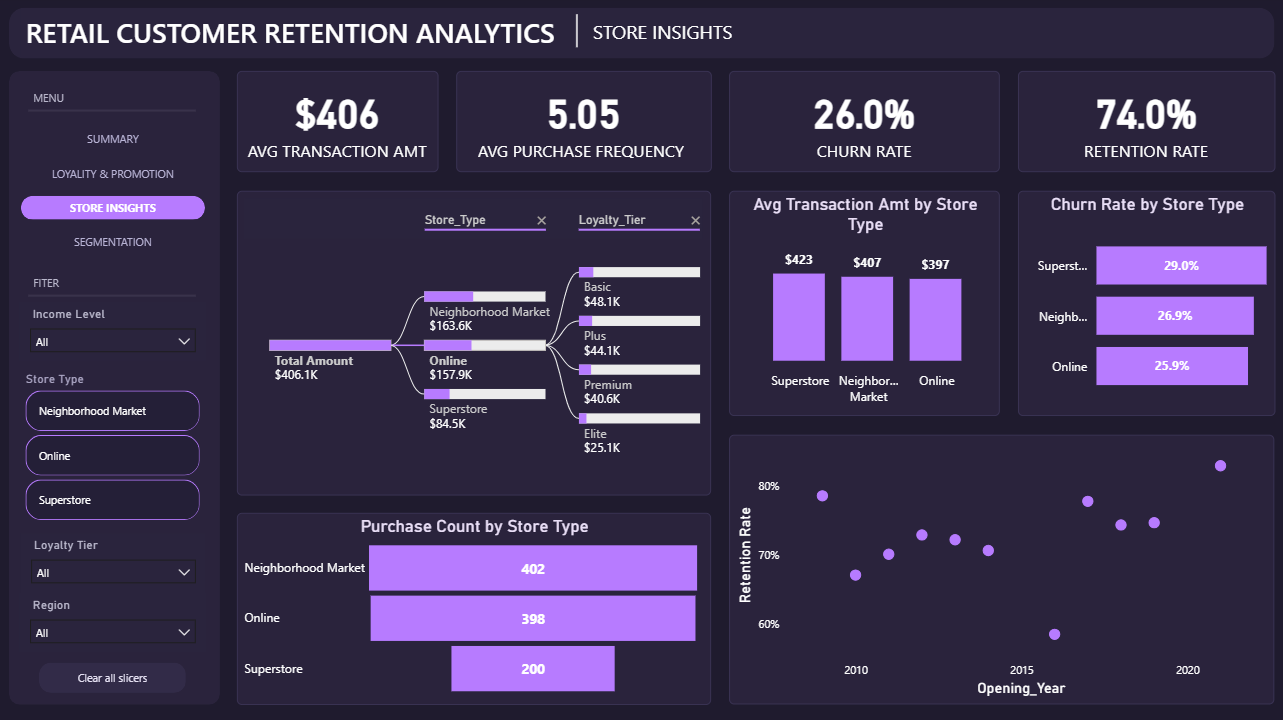

The page's visual inventory and layout, read from the dashboard file:
{"tool":"powerbi","page":{"name":"STORE INSIGHTS ","canvas":[1280,720],"ordinal":2},"visuals":[{"type":"card","title":"CHURN RATE","fields":{"Values":["All_Measures.Churn Rate"]},"box":[726.1,73.8,267.7,100.1],"z":0},{"type":"card","fields":{"Values":["Avg(Customer_Demographics.Purchase Count)"]},"box":[456.3,73.8,251.9,100.1],"z":1000},{"type":"card","fields":{"Values":["Avg(Transactions - Store (Merged).Amount)"]},"box":[240.3,73.8,199.2,100.1],"z":2000},{"type":"card","fields":{"Values":["All_Measures (DAX).Customer Retention Rate (%)"]},"box":[1010.6,73.8,254,100.1],"z":3000},{"type":"shape","box":[14.9,73.7,208.2,625.8],"z":4000},{"type":"advancedSlicerVisual","fields":{"Values":["Store_Locations.Store_Type"]},"box":[26.7,370.5,182.6,152.7],"z":5000},{"type":"slicer","fields":{"Values":["Customer_Demographics.Region"]},"box":[25.6,589.5,183.7,57.7],"z":6000},{"type":"slicer","fields":{"Values":["Loyalty_Program.Loyalty_Tier"]},"box":[26.7,530.7,182.6,58.7],"z":7000},{"type":"slicer","fields":{"Values":["Customer_Demographics.Income_Level"]},"box":[25.6,302.2,183.7,57.7],"z":8000},{"type":"actionButton","box":[44.8,657.8,145.2,29.9],"z":9000},{"type":"pageNavigator","box":[26.7,129.2,182.6,126],"z":10000},{"type":"shape","box":[34.2,289.4,165.5,12.8],"z":11000},{"type":"shape","box":[34.2,106.8,165.5,12.8],"z":12000},{"type":"textbox","box":[34.2,85.4,50.2,27.8],"z":13000},{"type":"textbox","box":[34.2,268,38.4,27.8],"z":14000},{"type":"shape","box":[14.9,11.7,1249.4,50.2],"z":15000},{"type":"shape","box":[569.1,18.2,12.2,32.8],"z":16000},{"type":"textbox","box":[26.8,12.2,542.3,46.2],"z":17000},{"type":"textbox","box":[586.2,17.1,153.8,37.4],"z":18000},{"type":"columnChart","title":"Avg Transaction Amt by Store Type","fields":{"Category":["Store_Locations.Store_Type"],"Y":["Avg(Transactions - Store (Merged).Amount)"]},"box":[726.1,191.8,267.7,222.4],"z":19000},{"type":"scatterChart","fields":{"X":["Store_Locations.Opening_Year"],"Y":["All_Measures (DAX).Customer Retention Rate (%)"]},"box":[726.1,433.1,538.5,266.6],"z":20000},{"type":"barChart","title":"Churn Rate by Store Type","fields":{"Category":["Store_Locations.Store_Type"],"Y":["All_Measures (DAX).Customer Churn Rate (%)"]},"box":[1010.6,191.8,254,222.4],"z":21000},{"type":"funnel","title":"Purchase Count by Store Type","fields":{"Category":["Store_Locations.Store_Type"],"Y":["CountNonNull(Transactions - Store (Merged).Transaction_ID)"]},"box":[240.3,510.1,467.9,189.7],"z":22000},{"type":"decompositionTreeVisual","title":"Total Spend by Loyality Tier by Store type","fields":{"ExplainBy":["Store_Locations.Store_Type","Loyalty_Program.Loyalty_Tier"],"Analyze":["Sum(Transactions - Store (Merged).Amount)"]},"box":[240.3,191.8,467.9,301.4],"z":23000}]}

Visuals, with their boxes in screenshot pixels (x1, y1, x2, y2), scaled from the page's 1280x720 canvas onto the 1283x720 screenshot:
"CHURN RATE" card: 728:74:996:174
card - Avg(Customer_Demographics.Purchase Count): 457:74:710:174
card - Avg(Transactions - Store (Merged).Amount): 241:74:441:174
card - All_Measures (DAX).Customer Retention Rate (%): 1013:74:1268:174
shape: 15:74:224:700
advancedSlicerVisual - Store_Locations.Store_Type: 27:370:210:523
slicer - Customer_Demographics.Region: 26:590:210:647
slicer - Loyalty_Program.Loyalty_Tier: 27:531:210:589
slicer - Customer_Demographics.Income_Level: 26:302:210:360
actionButton: 45:658:190:688
pageNavigator: 27:129:210:255
shape: 34:289:200:302
shape: 34:107:200:120
textbox: 34:85:85:113
textbox: 34:268:73:296
shape: 15:12:1267:62
shape: 570:18:583:51
textbox: 27:12:570:58
textbox: 588:17:742:54
"Avg Transaction Amt by Store Type" columnChart: 728:192:996:414
scatterChart - Store_Locations.Opening_Year x All_Measures (DAX).Customer Retention Rate (%): 728:433:1268:700
"Churn Rate by Store Type" barChart: 1013:192:1268:414
"Purchase Count by Store Type" funnel: 241:510:710:700
"Total Spend by Loyality Tier by Store type" decompositionTreeVisual: 241:192:710:493
